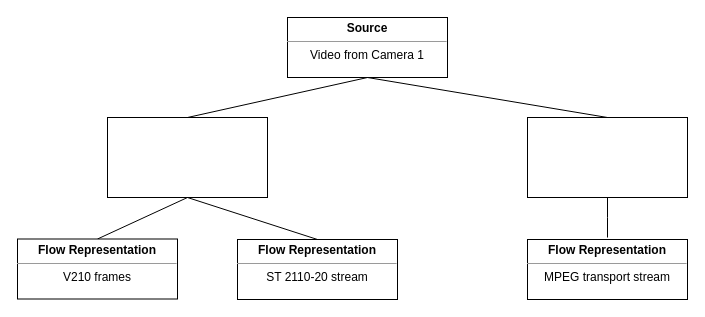
Some shapes in this 705 by 317 pixel diagram are drawn without their labels. The box of each missing label's shape, as (x1, y1, x2, y2) in pixels:
Flow 1920x1080p25 YUV 10-bit H.264 at [parameters]: (526, 116, 688, 198)
Flow 3840x2160p50 YUV 10-bit Uncompressed: (106, 116, 268, 198)
